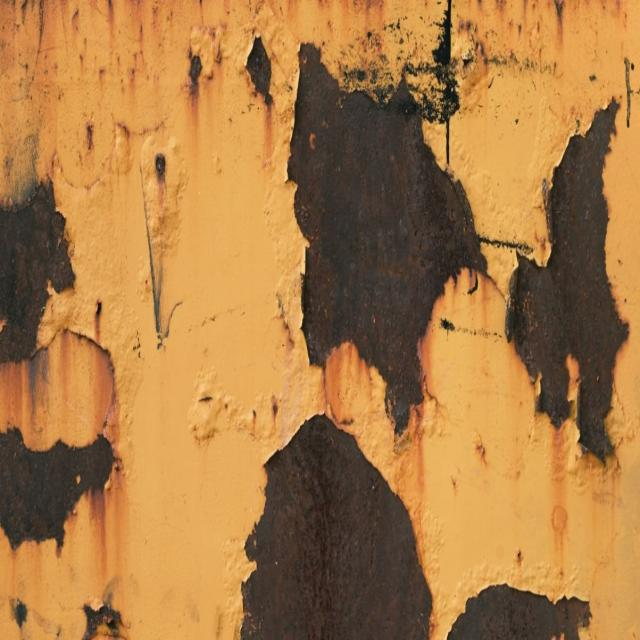Uniform Corrosion: (289, 45, 485, 428), (506, 100, 628, 458), (241, 417, 431, 639), (0, 429, 115, 546), (0, 181, 74, 360), (447, 585, 590, 639), (246, 37, 271, 103), (189, 55, 202, 93)
